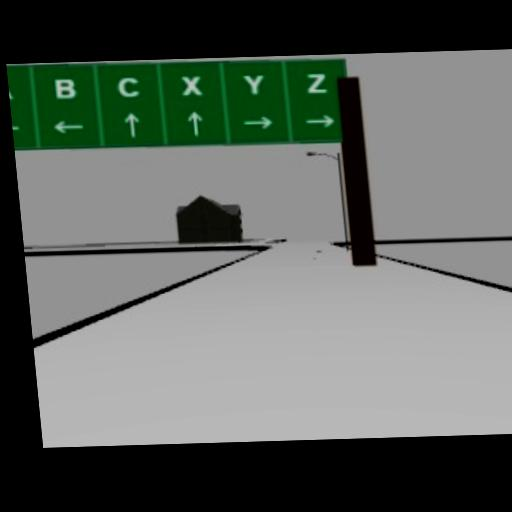A: (8, 77, 13, 98)
B: (53, 78, 77, 99)
C: (116, 76, 139, 97)
Left: (51, 119, 86, 134), (12, 124, 18, 129)
Right: (242, 115, 275, 130), (304, 113, 335, 128)
Straight: (122, 112, 141, 137), (185, 110, 203, 135)
X: (179, 74, 203, 95)
Y: (242, 74, 266, 96)
Z: (304, 72, 328, 94)
